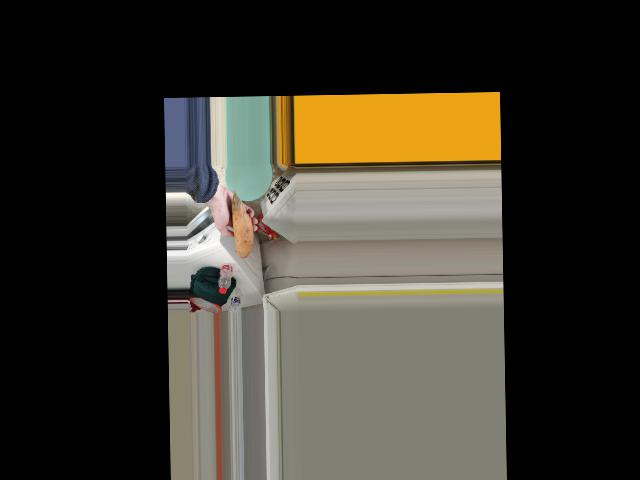sweet_potato: (229, 197, 253, 252)
